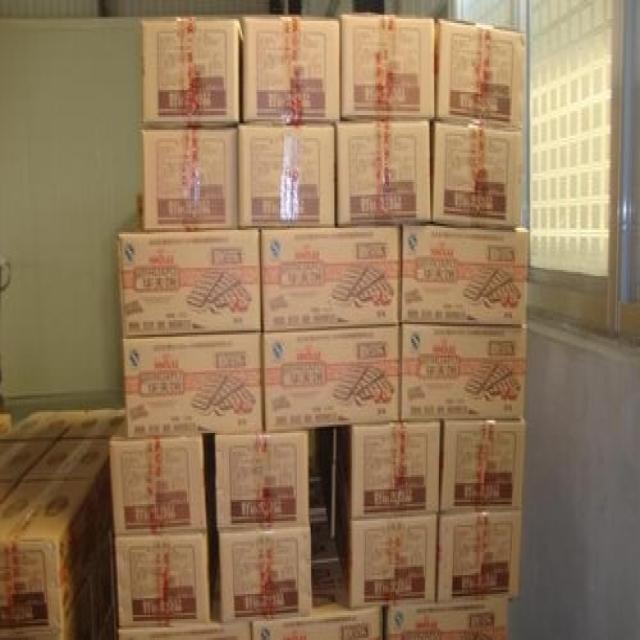box: (118, 197, 264, 339), (319, 458, 437, 606), (0, 477, 107, 632), (250, 516, 384, 638), (122, 331, 265, 439), (262, 224, 403, 330), (264, 324, 400, 430), (114, 501, 217, 630), (0, 527, 117, 638), (400, 321, 527, 422), (401, 222, 529, 321), (317, 420, 441, 517), (111, 418, 212, 537), (143, 17, 243, 125), (240, 16, 340, 122), (340, 15, 437, 122), (142, 127, 239, 231), (239, 123, 337, 224), (336, 121, 432, 224), (436, 17, 523, 130), (432, 121, 522, 229), (215, 431, 310, 528), (119, 571, 251, 636), (218, 526, 310, 619), (439, 419, 527, 511), (27, 436, 113, 530), (438, 508, 523, 602), (384, 596, 511, 638), (1, 407, 86, 439), (0, 435, 58, 481), (60, 407, 125, 438), (0, 475, 23, 508), (309, 481, 326, 515), (310, 427, 320, 482), (0, 411, 12, 437)
